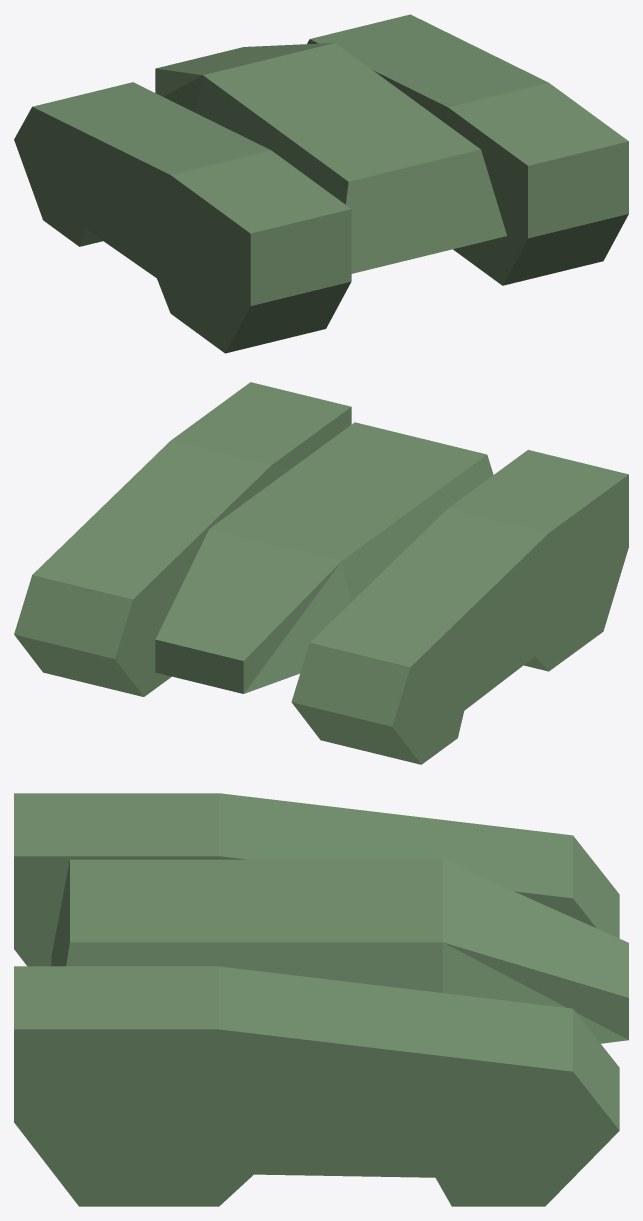
File: viper.glb
3 views of the same model, one above another, from view 1: azimuth 30°, elevation 25°; view 2: azimuth 150°, elevation 25°; view 3: azimuth 270°, elevation 25° (orthographic). The views are drawn at different scales.
Visible parts, largest first — view 1: Warzone Viper; view 2: Warzone Viper; view 3: Warzone Viper.
Boxes of the visible parts, x1,y1,x2,y2 form: Warzone Viper: (14,14,628,353); Warzone Viper: (14,382,628,764); Warzone Viper: (14,793,628,1206).
Bounding box in the file's own units: 3.6 × 1.32 × 3.96.
